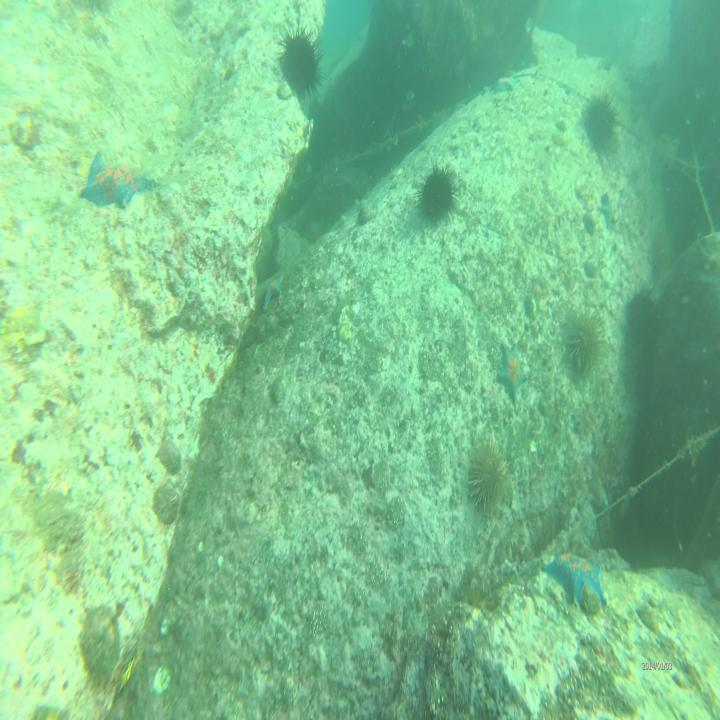echinus: (469, 437, 512, 514), (564, 306, 604, 376), (281, 31, 319, 98), (584, 93, 619, 152), (422, 164, 454, 224), (628, 290, 660, 348)
starfish: (81, 150, 157, 212), (544, 545, 607, 609), (496, 344, 531, 400), (256, 266, 285, 310), (491, 70, 520, 96)
